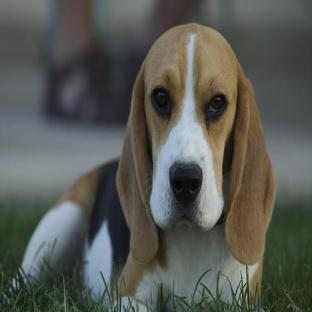Animal: (22, 24, 275, 310)
